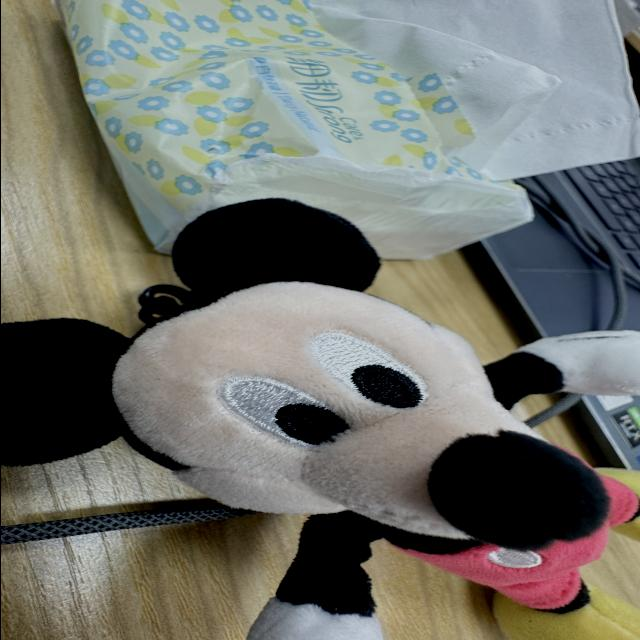mickey: (1, 200, 639, 639)
tissue: (59, 0, 639, 259), (312, 0, 639, 179)
